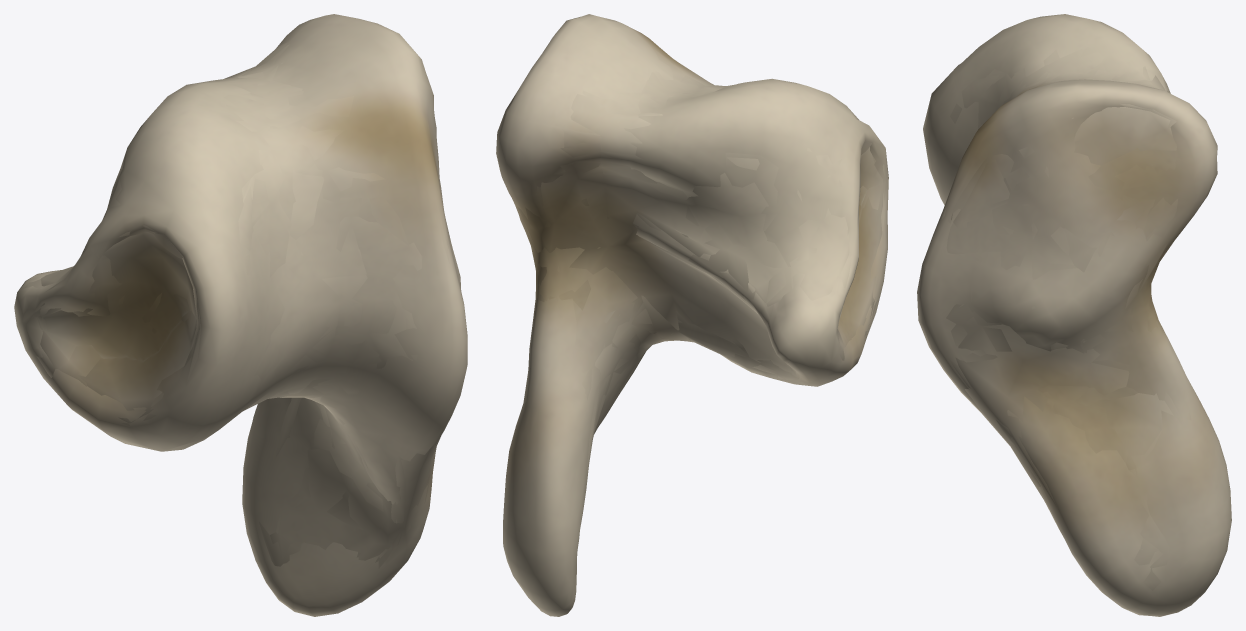
File: R talus.fbx
The picture shows the model from 3 angles, left to right: view 1: azimuth 30°, elevation 25°; view 2: azimuth 150°, elevation 25°; view 3: azimuth 270°, elevation 25°; orthographic projection. The views are drawn at different scales.
Parts seen in each view (by area): view 1: R talus high, R talus low, R talus; view 2: R talus high, R talus low, R talus; view 3: R talus high, R talus low, R talus.
Boxes of the visible parts, bbox=[...] form: R talus high: bbox=[14, 14, 467, 616]; R talus low: bbox=[31, 42, 450, 560]; R talus: bbox=[25, 44, 456, 568]; R talus high: bbox=[496, 14, 888, 616]; R talus low: bbox=[517, 72, 883, 557]; R talus: bbox=[515, 46, 887, 578]; R talus high: bbox=[917, 14, 1231, 616]; R talus low: bbox=[951, 49, 1182, 571]; R talus: bbox=[937, 32, 1191, 590].
Bounding box in the file's own units: 4.99 × 7.79 × 4.1.
